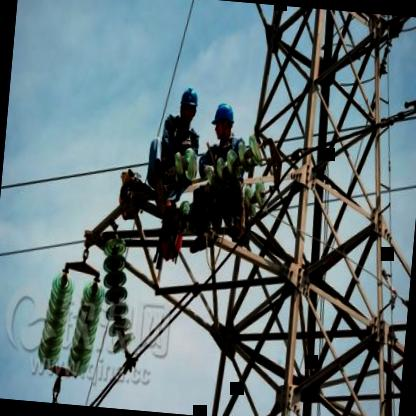helmet: (210, 98, 238, 144), (177, 83, 202, 127)
